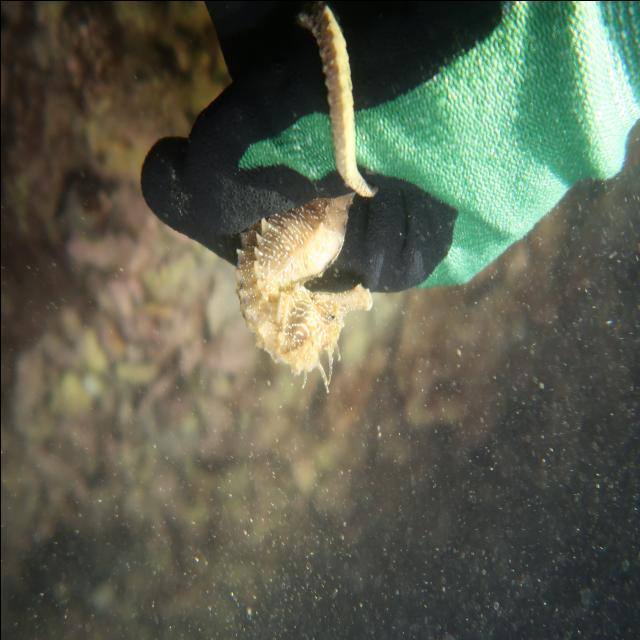Guttu: (273, 273, 377, 377)
